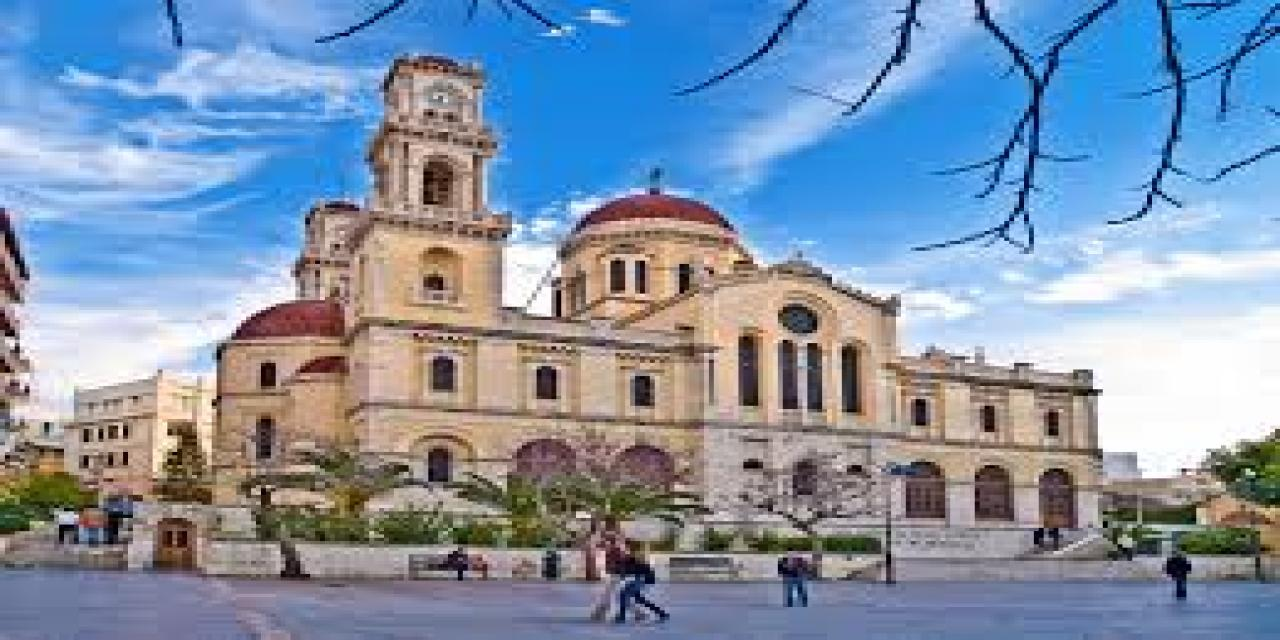Agios Minas: (214, 56, 1103, 553)
